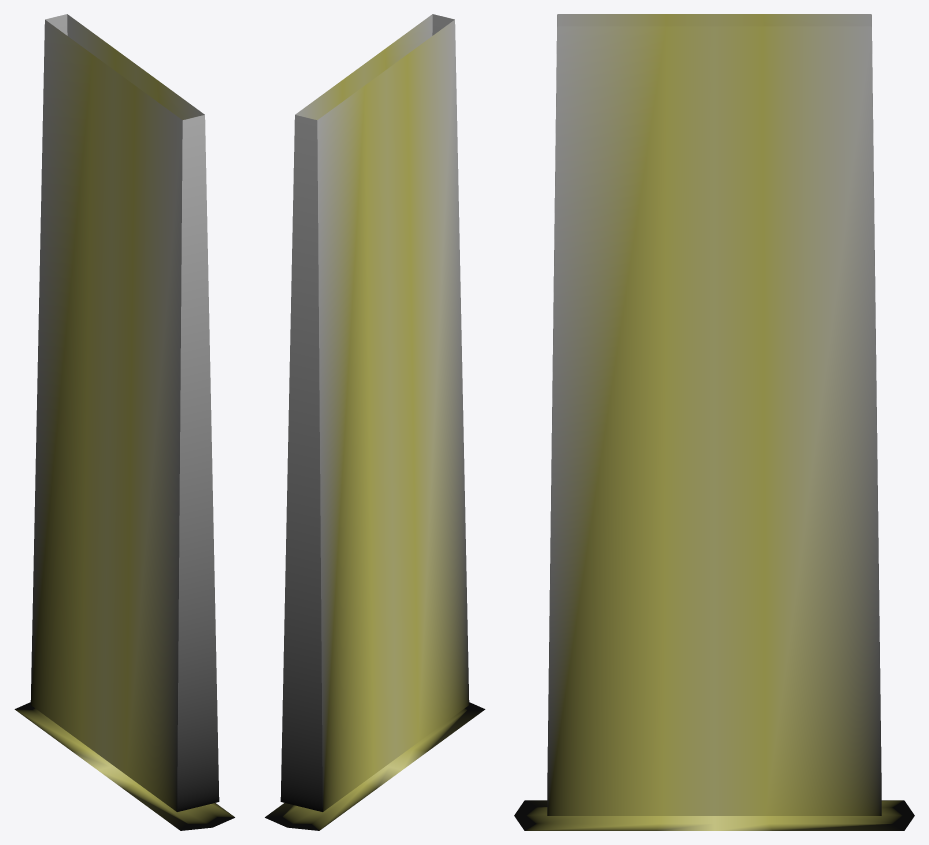
The model's file is LightRay_01.FBX.
3 renders of one model, left to right at view 1: azimuth 30°, elevation 25°; view 2: azimuth 150°, elevation 25°; view 3: azimuth 270°, elevation 25°, orthographic. The views are drawn at different scales.
Visible parts, largest first — view 1: LightRay_01; view 2: LightRay_01; view 3: LightRay_01.
Boxes of the visible parts, x1,y1,x2,y2 form: LightRay_01: [14, 14, 234, 830]; LightRay_01: [265, 14, 485, 830]; LightRay_01: [514, 14, 914, 830].
Bounding box in the file's own units: 168 × 2038 × 931.
